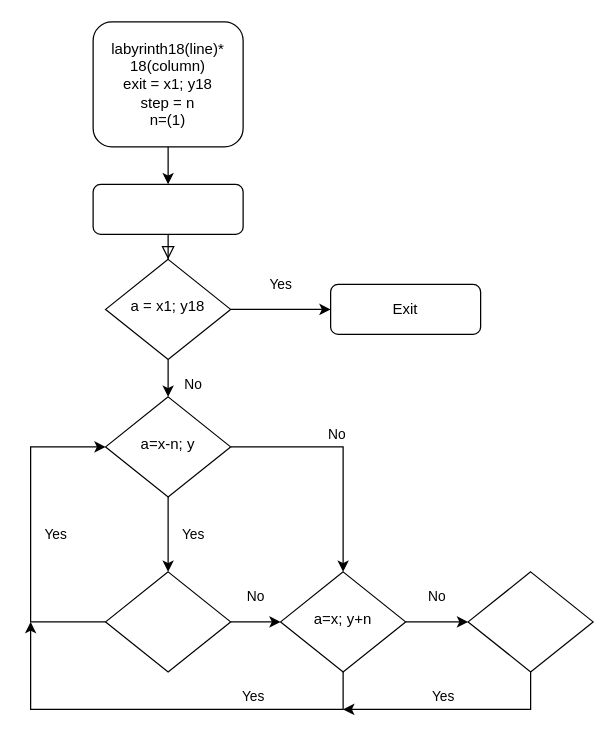
Some shapes in this 615 by 741 pixel diagram are drawn without their labels. The shapes that lost their labels are listed below. From the top down, each one's centre as x and y in pixels, then its label:
At [167,208]: "Start a = x18; y1".
At [167,621]: "a=x-n-n; y".
At [530,621]: "a=x; y+n+n".
